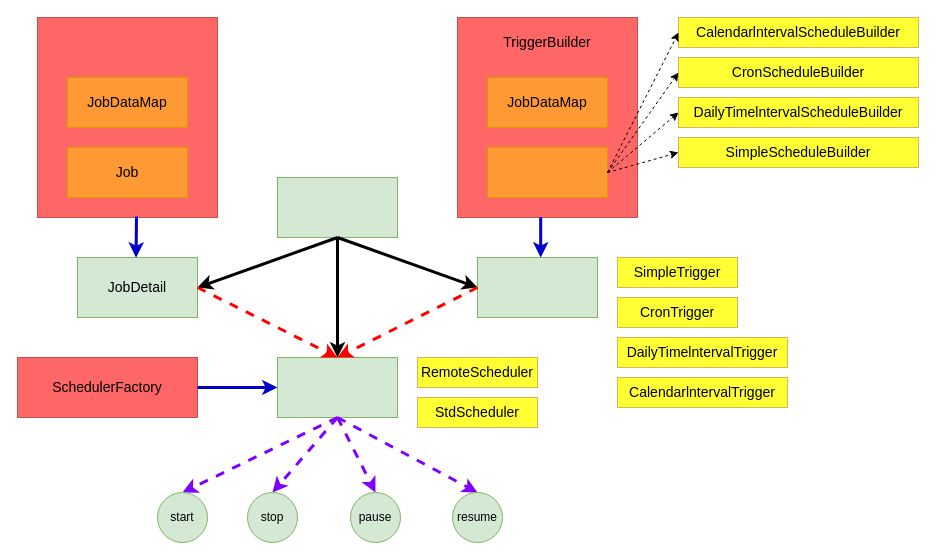
This 936x560 diagram has some shape labels left out. The box of each missing label's shape, as (x1, y1, x2, y2) in pixels:
JobBuilder: (36, 16, 218, 218)
Listener: (276, 176, 398, 238)
Scheduler: (276, 356, 398, 418)
SchedulerBuilder: (486, 146, 608, 198)
Trigger: (476, 256, 598, 318)
